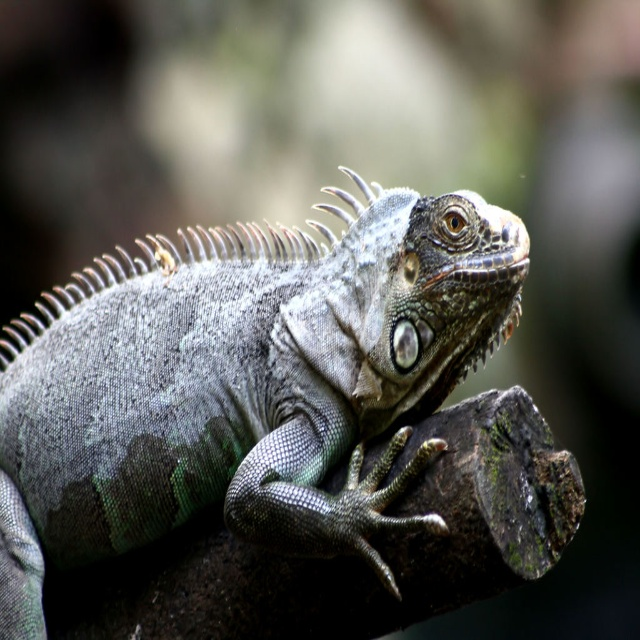Lizard: (3, 136, 548, 639)
